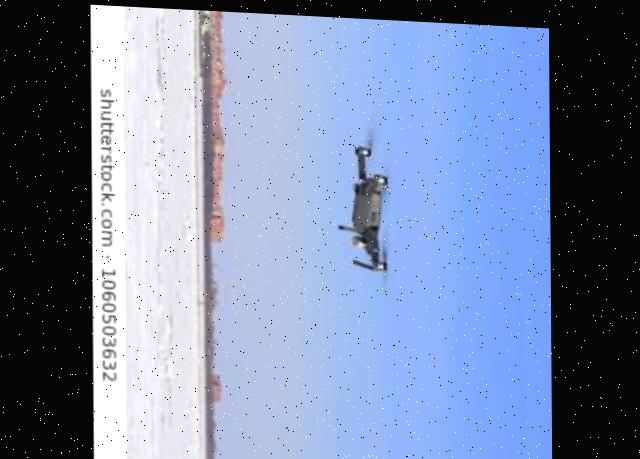drone: (332, 117, 410, 284)
